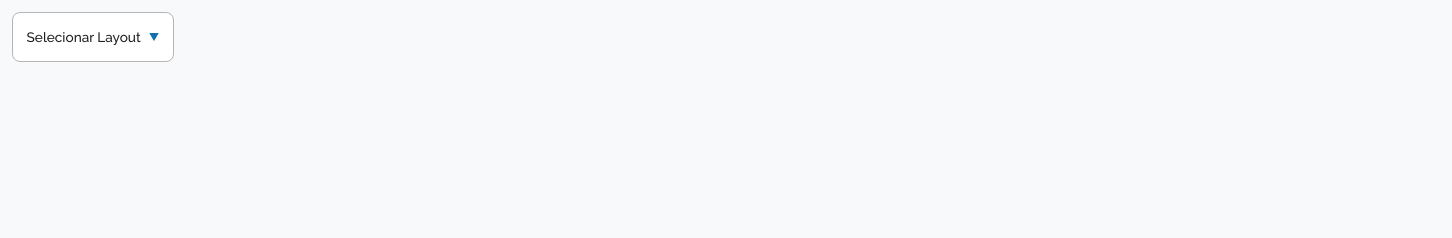
Test: LayoutCombobox › filtra e seleciona um layout por teclado
The width and height of the screenshot is (1452, 238).
Step 1. Press ArrowDown in the dropdown, box [12,12,174,62]
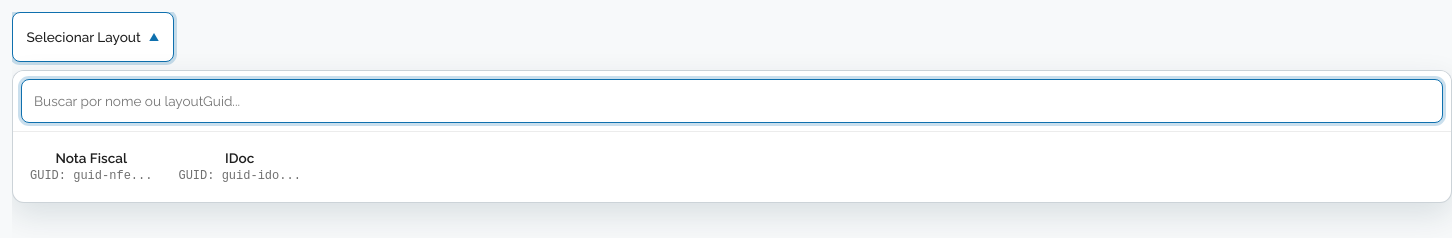
Step 2. Type "idoc" into the search field → (732,101), box [21,79,1443,123]
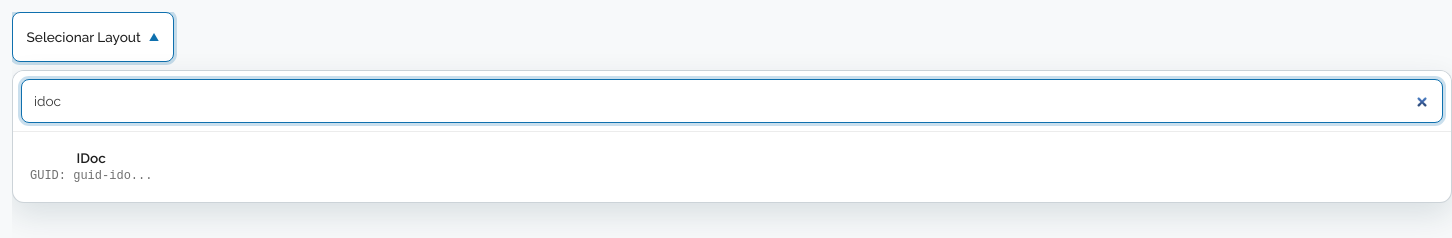
Step 3. Press ArrowDown in the search field, box [21,79,1443,123]
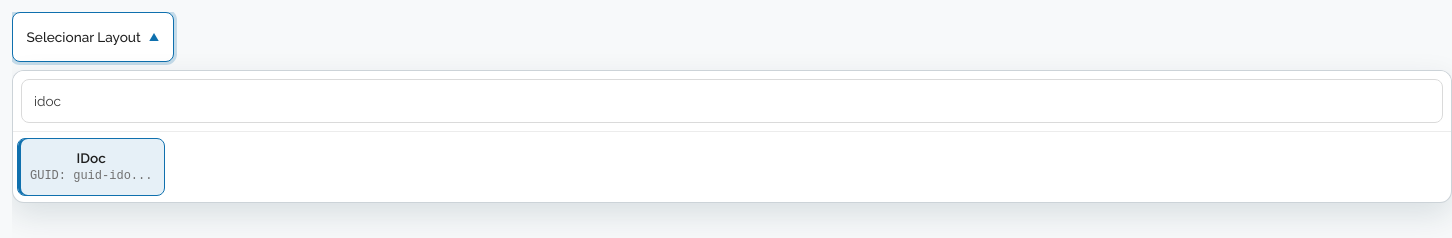
Step 4. Press Enter in the option "IDoc GUID: guid-ido...", box [17,138,165,196]
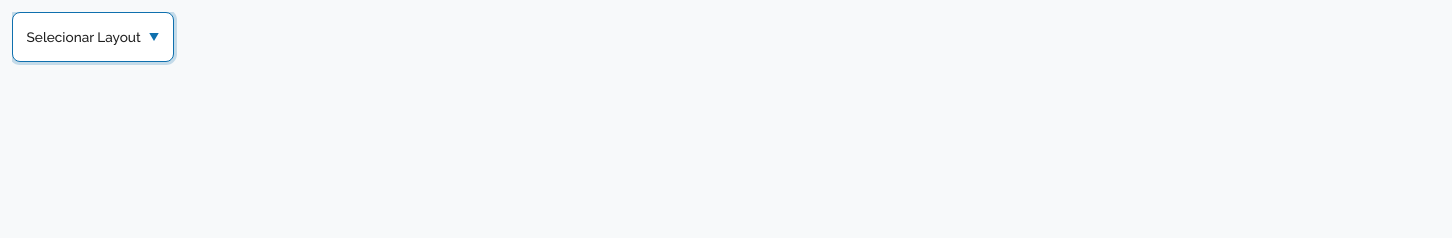
Expected: the list is gone
